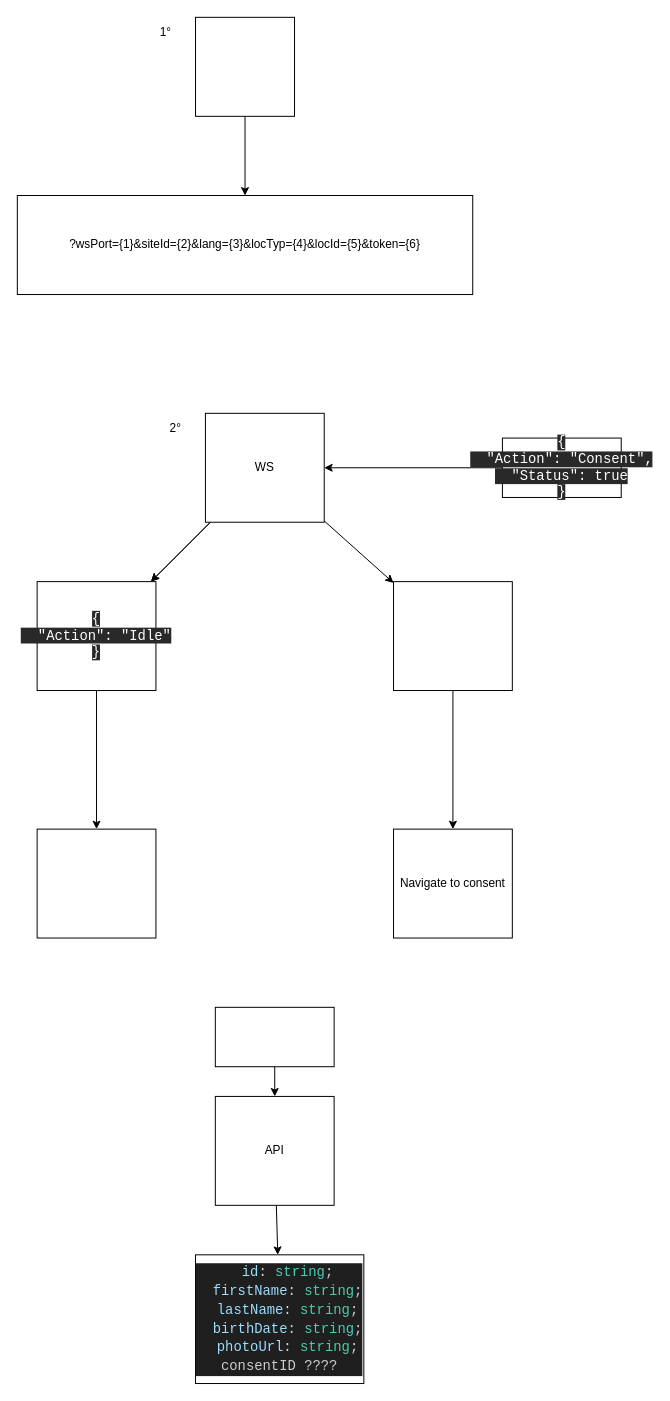
Image size: 670x1401. Some labels were removed from this diagram. The box of each missing label's shape, as (x1, y1, x2, y2) in pixels:
http://localhost:3000/player/ ${ playerId }: (214, 1006, 334, 1067)
Navigate back to idle: (36, 828, 156, 938)
URL: (195, 16, 295, 116)
{ "PlayerId": "409020020100116274513", "Action": "Consent" }: (393, 581, 512, 691)
